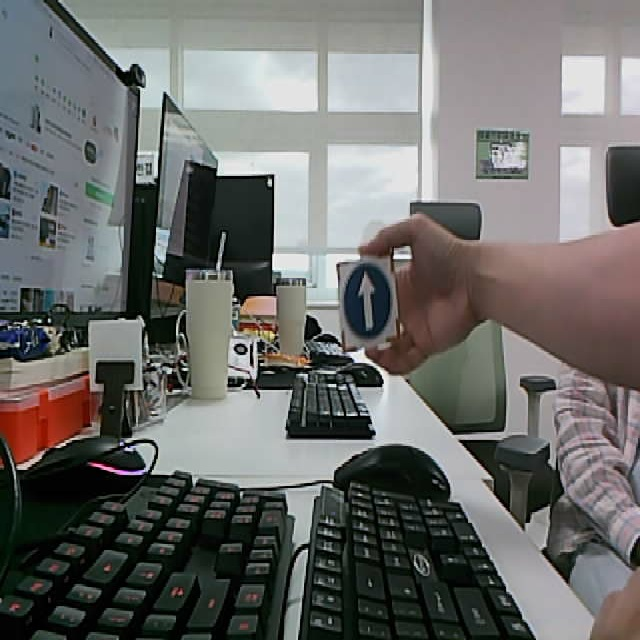straight: (337, 256, 400, 351)
